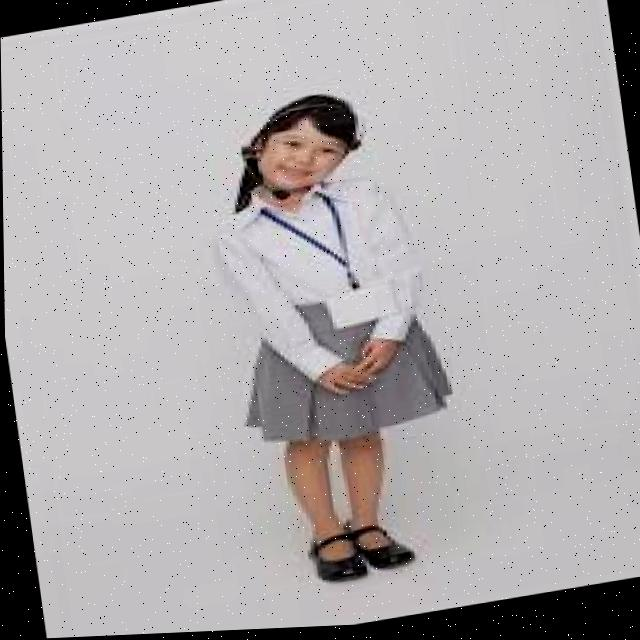id_card: (266, 182, 406, 340)
